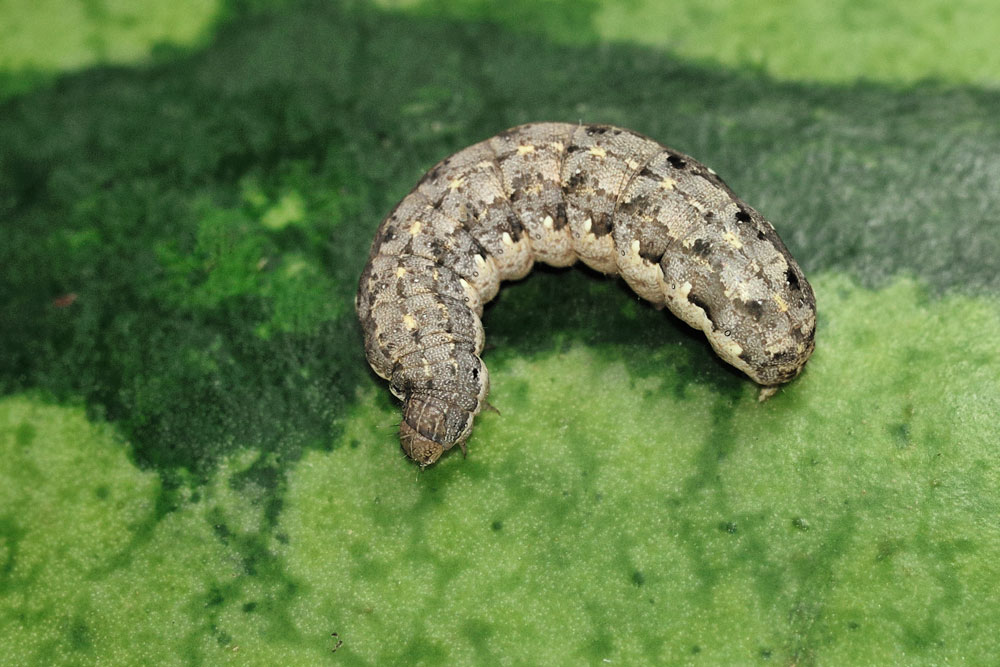Armyworm: (353, 67, 797, 499)
